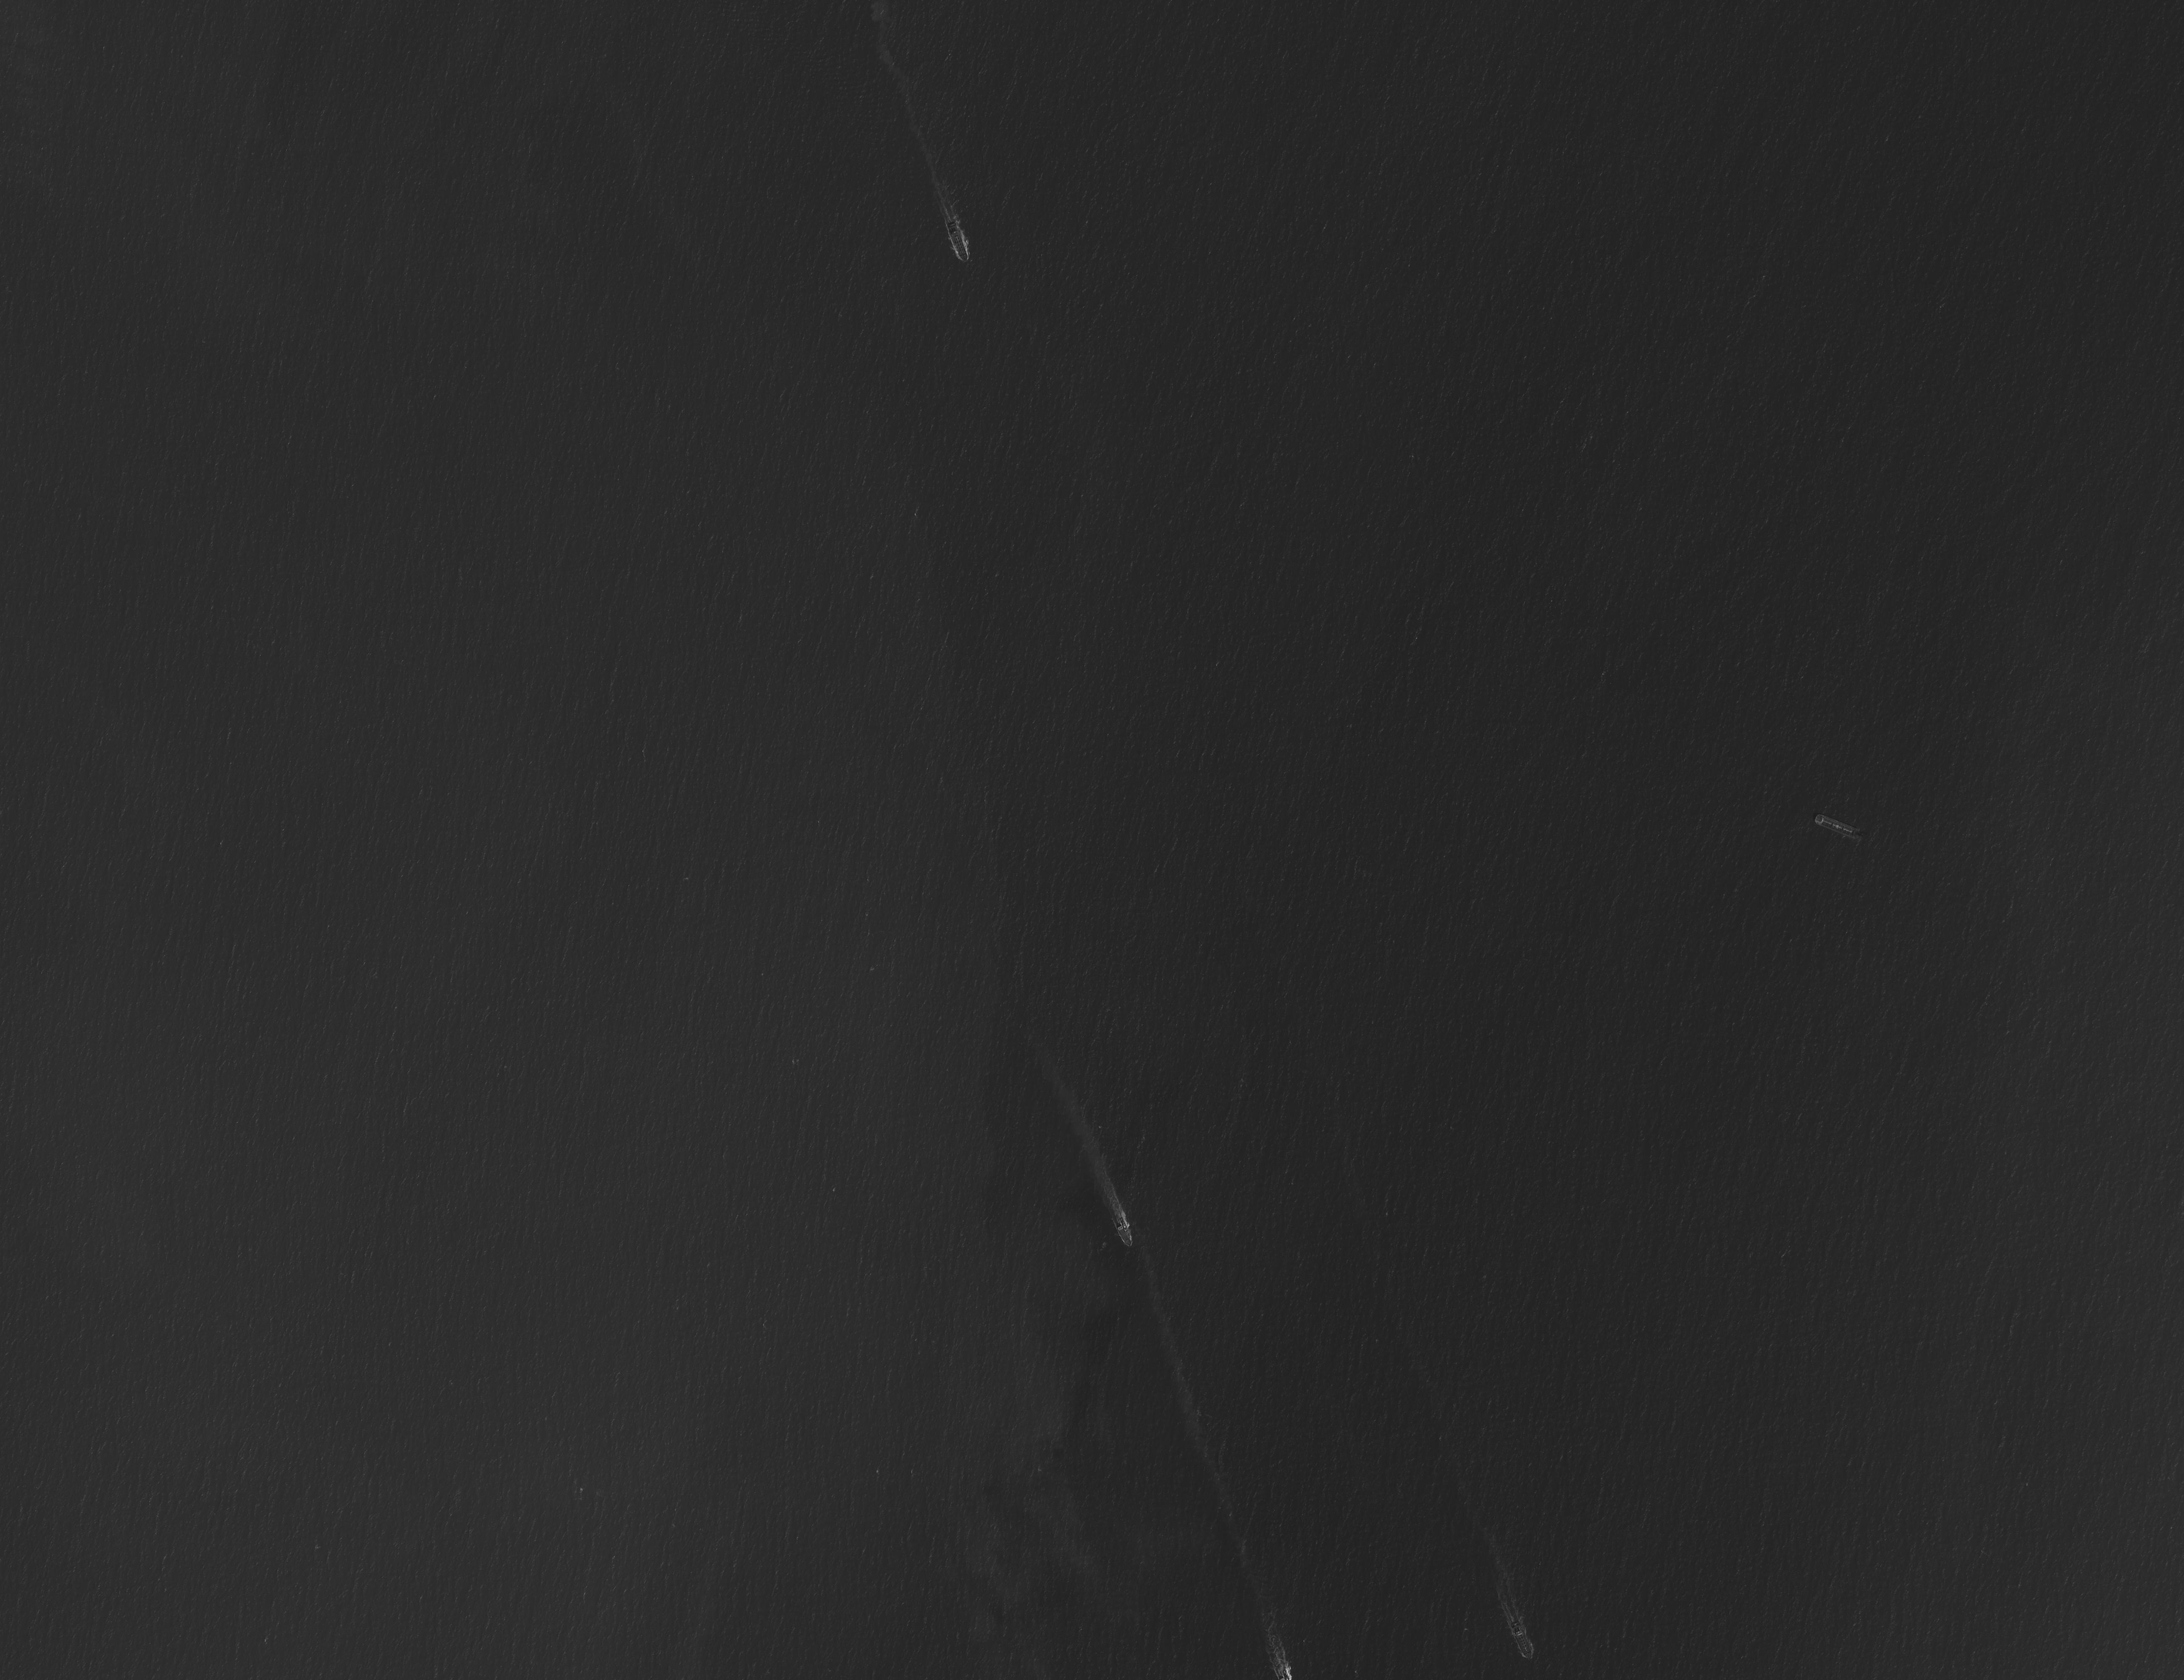ship: (1814, 814, 1861, 840), (944, 219, 972, 263), (1508, 1620, 1535, 1661), (1115, 1223, 1133, 1248), (1118, 1218, 1127, 1230), (1283, 1669, 1291, 1678)
